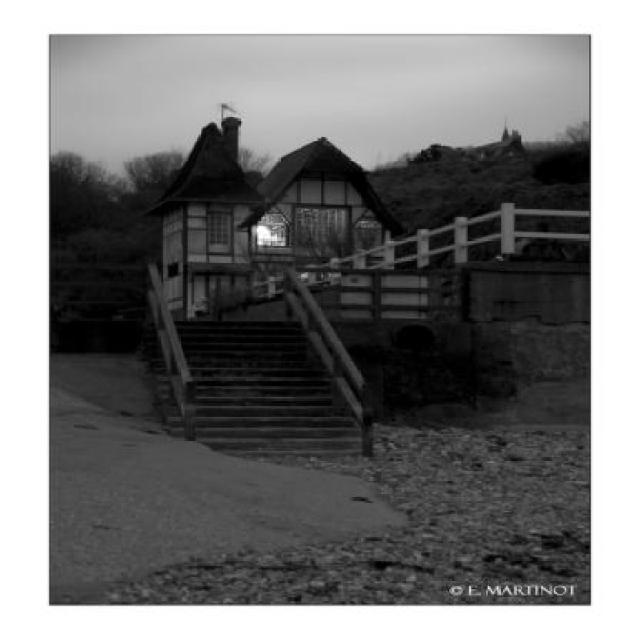stair: (168, 317, 366, 451)
